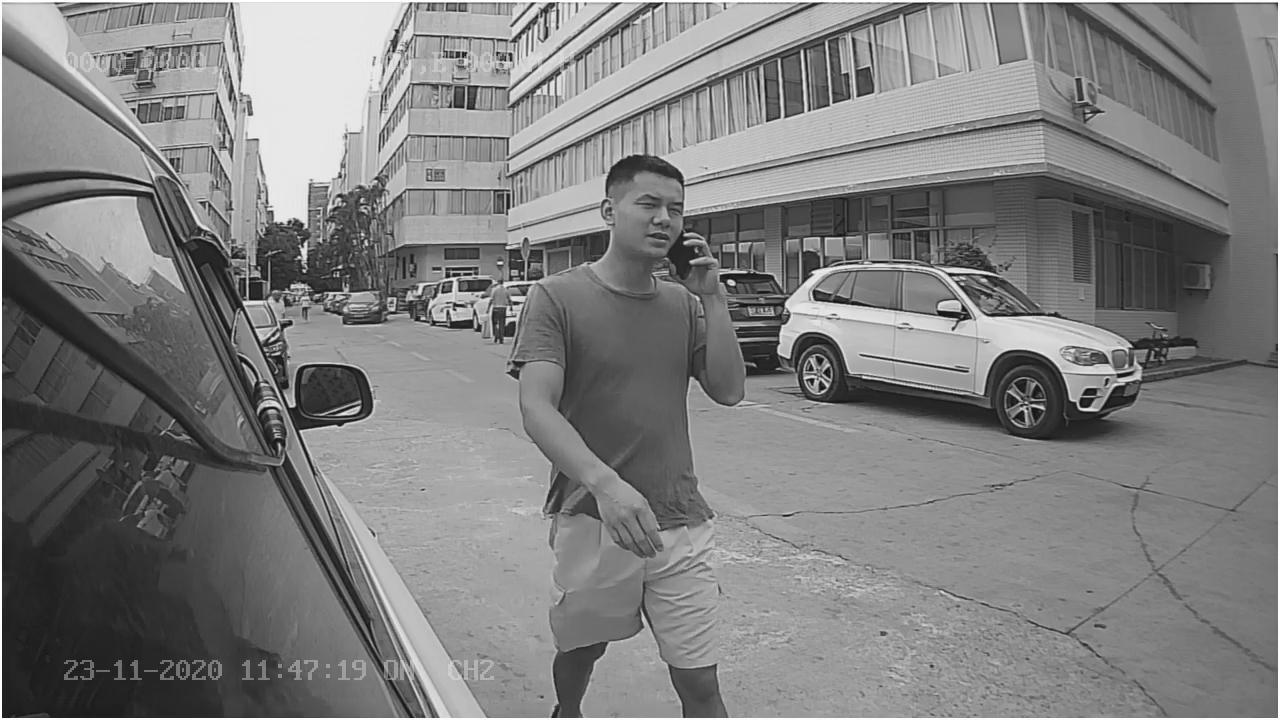person: (507, 134, 757, 587)
